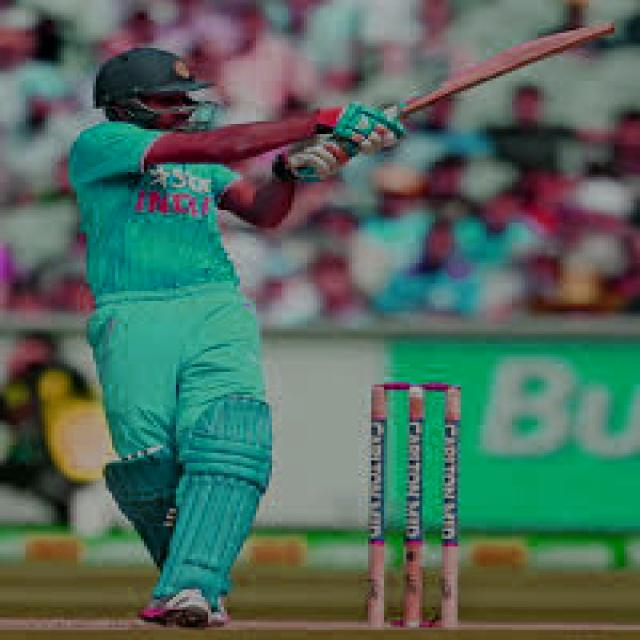toe: (594, 19, 620, 38)
